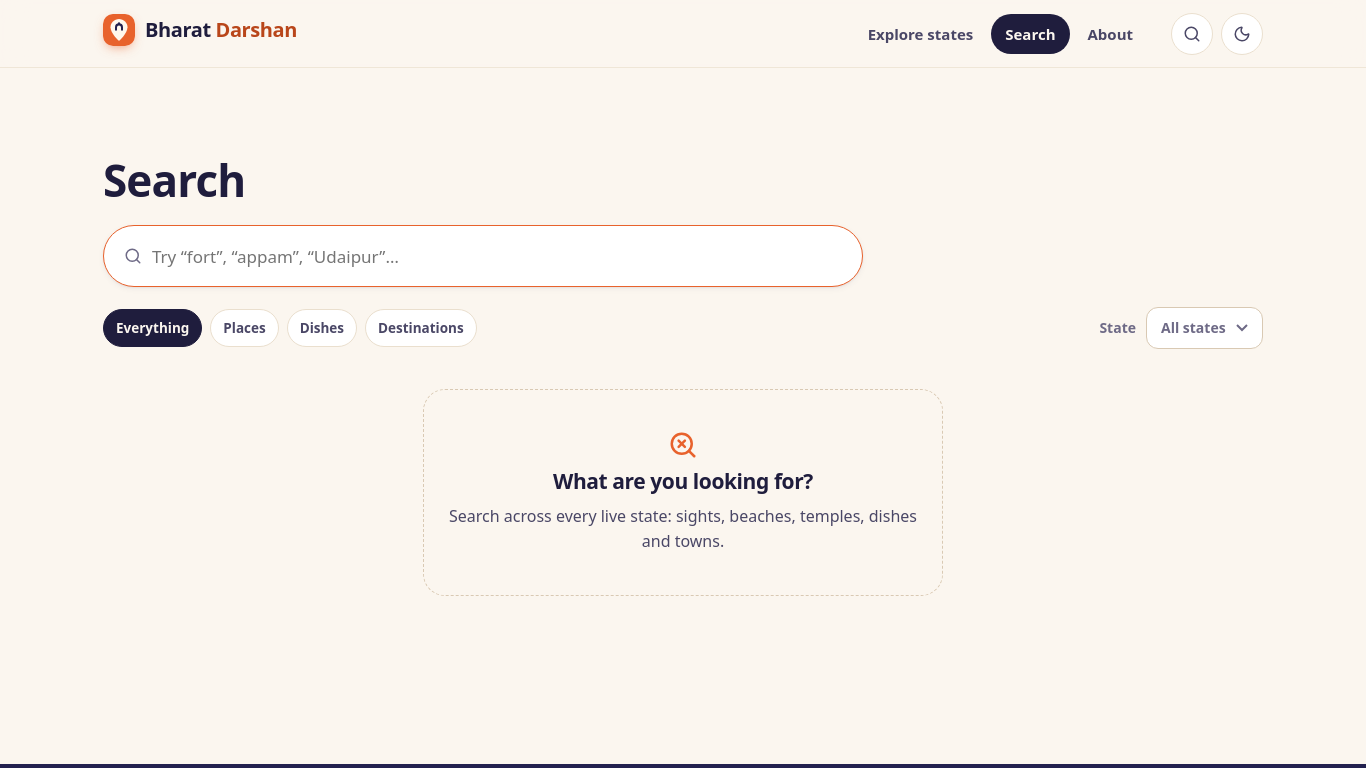
Test: search › finds places, dishes and destinations, with filters
The image size is (1366, 768).
Later steps or results of the test are not shown.
Expected: the heading "What are you looking for?" is shown, [553, 470, 813, 494]
Type "bebinka" into the search field.
click(503, 256); type("bebinka")  # box [150, 232, 856, 280]
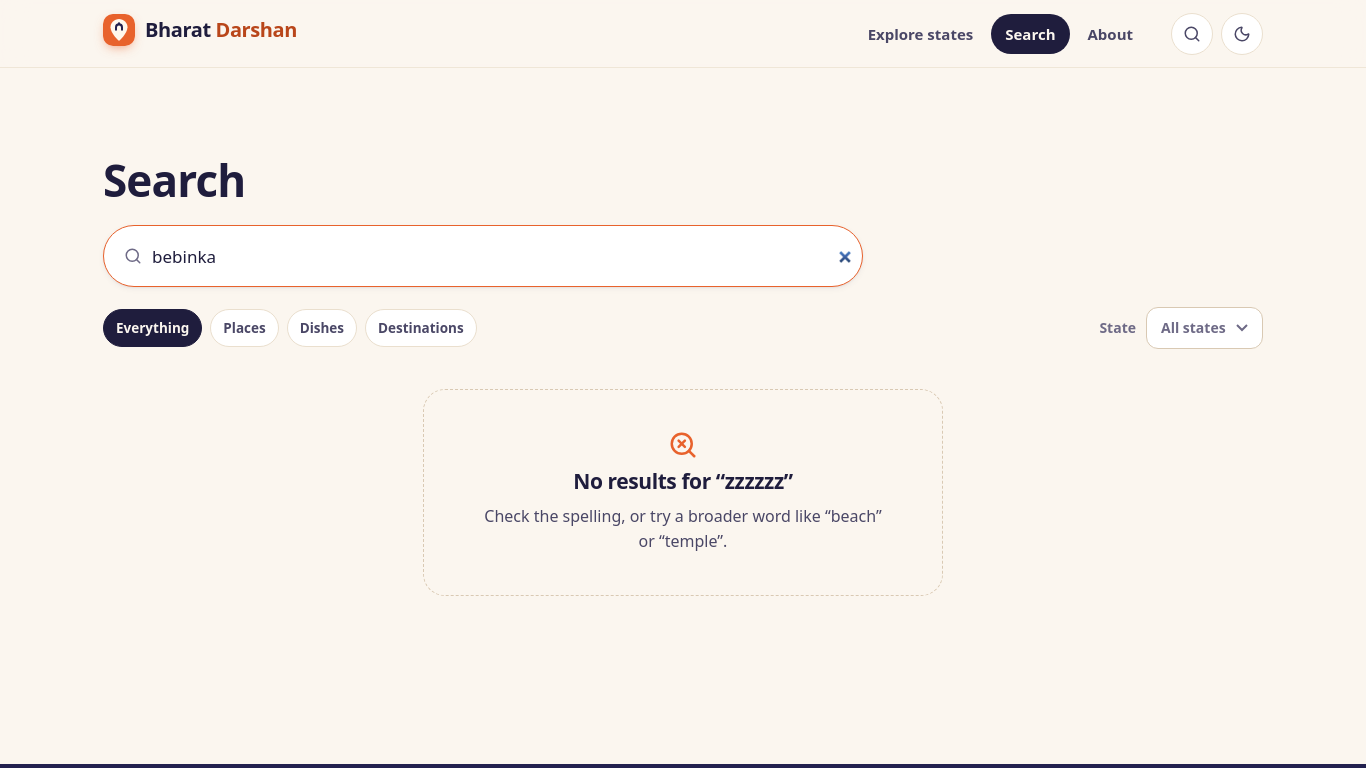
Now the heading "No results for “zzzzzz”" is shown, box [573, 470, 793, 494]
